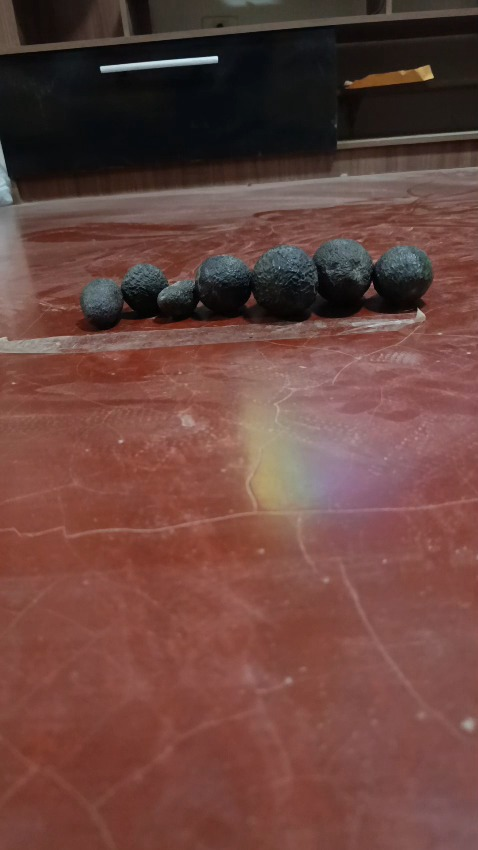Primera: (252, 244, 319, 317), (312, 238, 374, 308)
Segunda: (373, 245, 433, 308), (196, 254, 252, 315), (121, 262, 169, 314)
Tercera: (80, 278, 122, 329), (156, 279, 197, 319)
